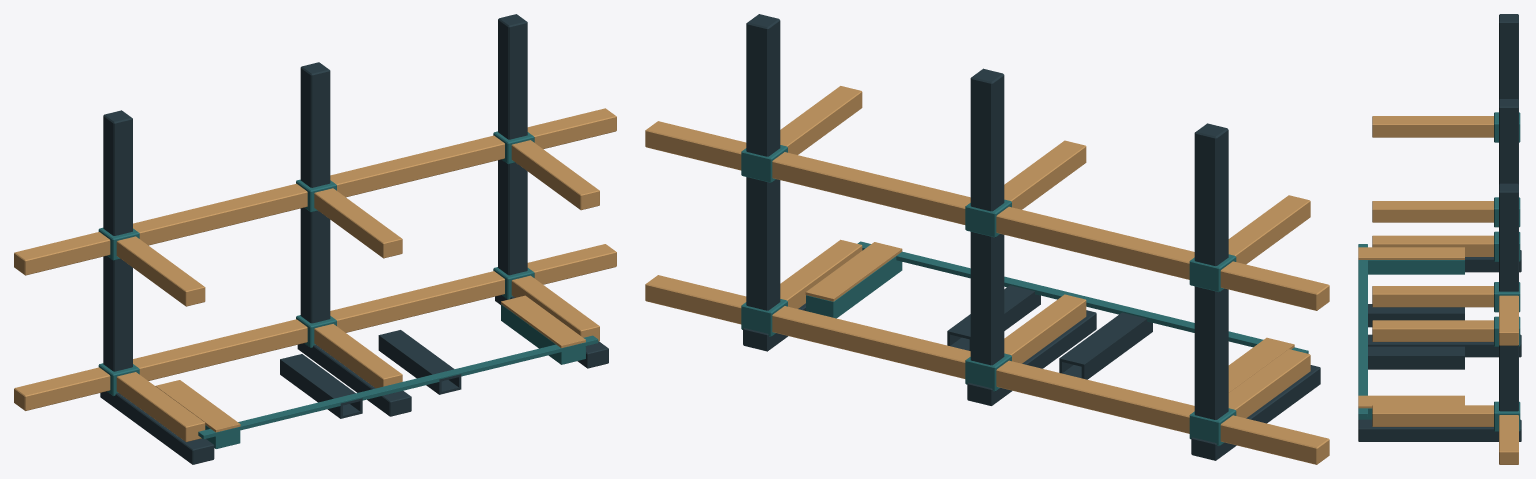
The model's file is long-transfer-interface-fixture.glb.
3 renders of one model, left to right at view 1: azimuth 30°, elevation 25°; view 2: azimuth 150°, elevation 25°; view 3: azimuth 270°, elevation 25°, orthographic. The views are drawn at different scales.
Visible parts, largest first — view 1: long-transfer-interface-fixture__batch_03, long-transfer-interface-fixture__batch_05, long-transfer-interface-fixture__batch_00, long-transfer-interface-fixture__batch_02, long-transfer-interface-fixture__batch_01, long-transfer-interface-fixture__batch_04; view 2: long-transfer-interface-fixture__batch_03, long-transfer-interface-fixture__batch_05, long-transfer-interface-fixture__batch_04, long-transfer-interface-fixture__batch_02, long-transfer-interface-fixture__batch_00, long-transfer-interface-fixture__batch_01; view 3: long-transfer-interface-fixture__batch_03, long-transfer-interface-fixture__batch_05, long-transfer-interface-fixture__batch_02, long-transfer-interface-fixture__batch_00, long-transfer-interface-fixture__batch_01, long-transfer-interface-fixture__batch_04.
Boxes of the visible parts, box(x1,y1,x2,y2) form: long-transfer-interface-fixture__batch_03: box(14, 108, 616, 442); long-transfer-interface-fixture__batch_05: box(100, 14, 608, 464); long-transfer-interface-fixture__batch_00: box(198, 304, 598, 448); long-transfer-interface-fixture__batch_02: box(280, 330, 461, 418); long-transfer-interface-fixture__batch_01: box(155, 295, 585, 432); long-transfer-interface-fixture__batch_04: box(98, 131, 534, 396); long-transfer-interface-fixture__batch_03: box(645, 86, 1329, 464); long-transfer-interface-fixture__batch_05: box(743, 14, 1320, 460); long-transfer-interface-fixture__batch_04: box(741, 145, 1236, 446); long-transfer-interface-fixture__batch_02: box(947, 285, 1152, 379); long-transfer-interface-fixture__batch_00: box(806, 241, 1308, 353); long-transfer-interface-fixture__batch_01: box(805, 242, 1294, 392); long-transfer-interface-fixture__batch_03: box(1372, 116, 1518, 464); long-transfer-interface-fixture__batch_05: box(1358, 14, 1521, 441); long-transfer-interface-fixture__batch_02: box(1368, 304, 1464, 369); long-transfer-interface-fixture__batch_00: box(1358, 244, 1464, 419); long-transfer-interface-fixture__batch_01: box(1358, 247, 1464, 408); long-transfer-interface-fixture__batch_04: box(1494, 112, 1520, 431).
Bounding box in the file's own units: 4.8 × 2.2 × 1.3.
